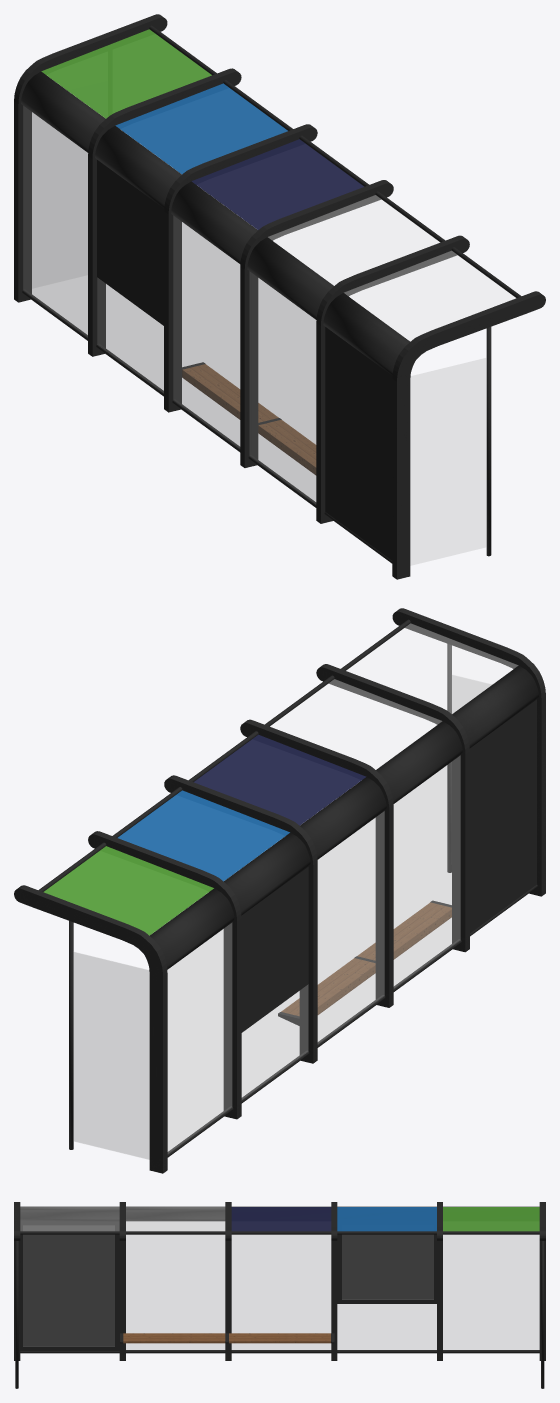
Rendered from Shelter.glb.
3 views of the same model, one above another, from view 1: azimuth 30°, elevation 25°; view 2: azimuth 150°, elevation 25°; view 3: azimuth 270°, elevation 25° (orthographic). The views are drawn at different scales.
Parts seen in each view (by area): view 1: szyba_boczna.001_9, rozkady_15, szyba.001_14, szyba.002_21, szyba_32, szyba_boczna_36, szyba_up.002_19, szyba_up.003_25, rozklady2_37, szyba_up_7, szyba_up.001_12, szyba_up.004_30 (+15 smaller); view 2: szyba_boczna_36, rozkady_15, szyba.001_14, szyba.002_21, szyba_32, rozklady2_37, szyba_up.002_19, szyba_up.003_25, szyba_up.001_12, szyba_up_7, szyba_up.004_30, slup_glowny.005_34 (+16 smaller); view 3: rozkady_15, szyba.001_14, szyba_32, szyba.002_21, rozklady2_37, szyba.003_27, szyba_up.002_19, szyba_up.003_25, szyba_up.004_30, szyba_up_7, szyba_up.001_12, connector1_5 (+21 smaller).
Boxes of the visible parts, x1,y1,x2,y2 form: szyba_boczna.001_9: (410,358,486,565); rozkady_15: (325,327,392,560); szyba.001_14: (249,272,316,503); szyba.002_21: (173,216,239,448); szyba_32: (23,106,87,336); szyba_boczna_36: (32,112,87,288); szyba_up.002_19: (191,139,364,229); szyba_up.003_25: (115,83,287,174); rozklady2_37: (97,160,164,325); szyba_up_7: (344,251,515,341); szyba_up.001_12: (268,195,439,285); szyba_up.004_30: (41,29,211,118); szyba_boczna_36: (73,952,149,1159); rozkady_15: (469,699,536,933); szyba.001_14: (394,755,460,988); szyba.002_21: (318,811,384,1043); szyba_32: (167,923,231,1153); rozklady2_37: (241,867,308,1032); szyba_up.002_19: (193,734,366,825); szyba_up.003_25: (117,790,289,881); szyba_up.001_12: (270,679,441,769); szyba_up_7: (346,623,518,713); szyba_up.004_30: (43,846,213,935); slup_glowny.005_34: (14,885,167,1173); rozkady_15: (20,1221,119,1350); szyba.001_14: (126,1221,224,1349); szyba_32: (443,1235,539,1349); szyba.002_21: (232,1235,330,1349); rozklady2_37: (337,1234,436,1303); szyba.003_27: (337,1304,436,1349); szyba_up.002_19: (231,1207,331,1231); szyba_up.003_25: (337,1207,436,1231); szyba_up.004_30: (443,1207,539,1231); szyba_up_7: (20,1207,119,1230); szyba_up.001_12: (126,1207,224,1230); connector1_5: (20,1206,119,1221).
Bounding box in the file's own units: 1.99 × 3.19 × 8.84.
6 materials, 2 textured.
